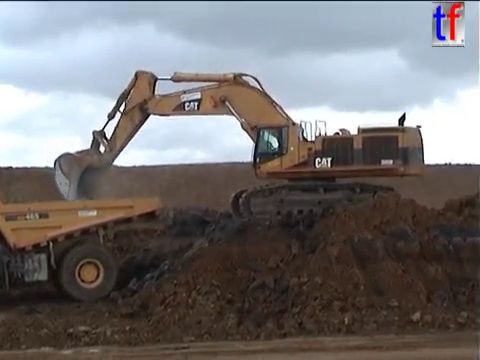excavator: (50, 67, 428, 228)
truck: (1, 194, 165, 303)
